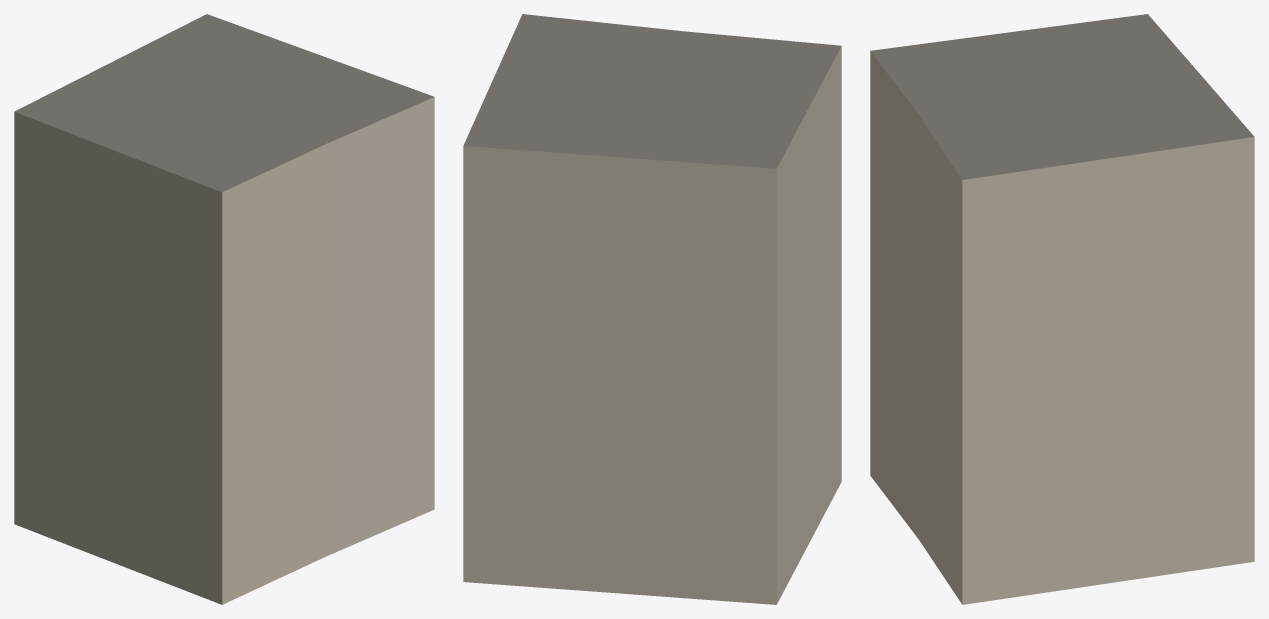
3 views of the same model, side by side, from view 1: azimuth 30°, elevation 25°; view 2: azimuth 150°, elevation 25°; view 3: azimuth 270°, elevation 25° (orthographic). The views are drawn at different scales.
Visible parts, largest first — view 1: HP-w446934375; view 2: HP-w446934375; view 3: HP-w446934375.
Part boxes in pixels (x1,y1,x2,y2): HP-w446934375: [14, 14, 434, 604]; HP-w446934375: [463, 14, 841, 604]; HP-w446934375: [870, 14, 1254, 604].
Bounding box in the file's own units: 15.09 × 18 × 14.76.
